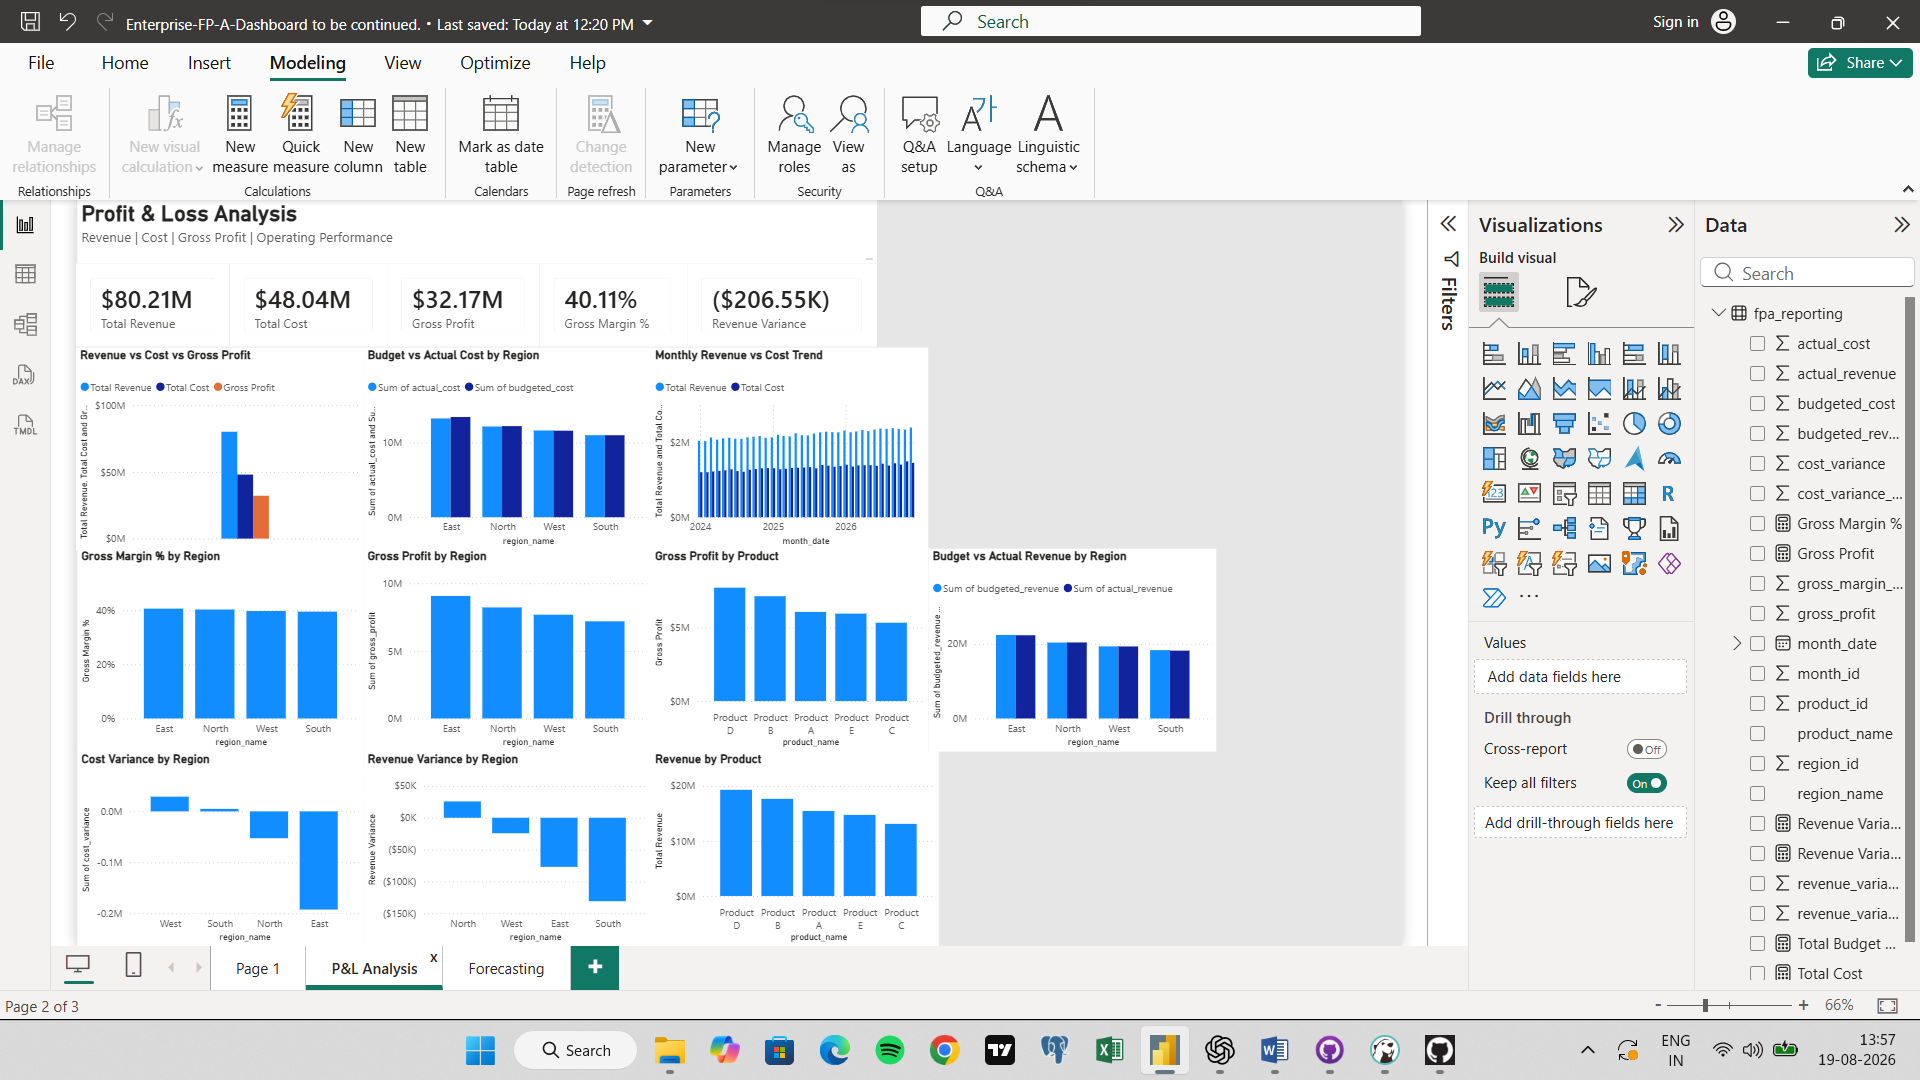

What the dashboard file says about the page in this screenshot:
{"tool":"powerbi","page":{"name":"P&L Analysis","canvas":[1600,900],"ordinal":1},"visuals":[{"type":"textbox","title":"Profit & Loss Analysis","box":[1.5,0,965.2,76.9],"z":0},{"type":"cardVisual","fields":{"Data":["fpa_reporting.Total Revenue"]},"box":[0,76.4,184.6,100.3],"z":1000},{"type":"cardVisual","fields":{"Data":["fpa_reporting.Total Cost"]},"box":[184.8,76.4,190.8,100.3],"z":2000},{"type":"cardVisual","fields":{"Data":["fpa_reporting.Gross Profit"]},"box":[375.7,76.4,183.4,100.3],"z":3000},{"type":"cardVisual","fields":{"Data":["fpa_reporting.Gross Margin %"]},"box":[559.3,76.4,177.3,100.3],"z":4000},{"type":"cardVisual","fields":{"Data":["fpa_reporting.Revenue Variance"]},"box":[736.8,76.4,228.7,100.3],"z":5000},{"type":"clusteredColumnChart","title":"Revenue vs Cost vs Gross Profit","fields":{"Y":["fpa_reporting.Total Revenue","fpa_reporting.Total Cost","fpa_reporting.Gross Profit"]},"box":[0,177.3,347,244.6],"z":6000},{"type":"clusteredColumnChart","title":"Monthly Revenue vs Cost Trend","fields":{"Y":["fpa_reporting.Total Revenue","fpa_reporting.Total Cost"],"Category":["fpa_reporting.month_date"]},"box":[694,177.3,334.8,244.6],"z":7000},{"type":"clusteredColumnChart","title":"Gross Profit by Region","fields":{"Category":["fpa_reporting.region_name"],"Y":["Sum(fpa_reporting.gross_profit)"]},"box":[347,420.3,347,244.6],"z":8000},{"type":"clusteredColumnChart","title":"Gross Margin % by Region","fields":{"Category":["fpa_reporting.region_name"],"Y":["fpa_reporting.Gross Margin %"]},"box":[1.5,420.3,345.5,244.6],"z":9000},{"type":"clusteredColumnChart","title":"Revenue Variance by Region","fields":{"Category":["fpa_reporting.region_name"],"Y":["fpa_reporting.Revenue Variance"]},"box":[347,664.6,347,235.4],"z":10000},{"type":"clusteredColumnChart","title":"Revenue by Product","fields":{"Category":["fpa_reporting.product_name"],"Y":["fpa_reporting.Total Revenue"]},"box":[694,664.6,347,235.4],"z":11000},{"type":"clusteredColumnChart","title":"Gross Profit by Product","fields":{"Category":["fpa_reporting.product_name"],"Y":["fpa_reporting.Gross Profit"]},"box":[694,420.3,334.8,244.6],"z":12000},{"type":"clusteredColumnChart","title":"Budget vs Actual Cost by Region","fields":{"Category":["fpa_reporting.region_name"],"Y":["Sum(fpa_reporting.actual_cost)","Sum(fpa_reporting.budgeted_cost)"]},"box":[347,177.3,347,244.6],"z":13000},{"type":"clusteredColumnChart","title":"Cost Variance by Region","fields":{"Category":["fpa_reporting.region_name"],"Y":["Sum(fpa_reporting.cost_variance)"]},"box":[1.5,664.6,345.5,235.4],"z":14000},{"type":"clusteredColumnChart","title":"Budget vs Actual Revenue by Region","fields":{"Category":["fpa_reporting.region_name"],"Y":["Sum(fpa_reporting.budgeted_revenue)","Sum(fpa_reporting.actual_revenue)"]},"box":[1028.7,420.3,347,244.6],"z":15000}]}

Visuals, with their boxes on the page's 1600x900 design canvas (x1, y1, x2, y2). These are canvas units, not pixel positions in the 1920x1080 screenshot, which may show the page scaled, cropped or inside an application window:
"Profit & Loss Analysis" textbox: box=[2, 0, 967, 77]
cardVisual - fpa_reporting.Total Revenue: box=[0, 76, 185, 177]
cardVisual - fpa_reporting.Total Cost: box=[185, 76, 376, 177]
cardVisual - fpa_reporting.Gross Profit: box=[376, 76, 559, 177]
cardVisual - fpa_reporting.Gross Margin %: box=[559, 76, 737, 177]
cardVisual - fpa_reporting.Revenue Variance: box=[737, 76, 966, 177]
"Revenue vs Cost vs Gross Profit" clusteredColumnChart: box=[0, 177, 347, 422]
"Monthly Revenue vs Cost Trend" clusteredColumnChart: box=[694, 177, 1029, 422]
"Gross Profit by Region" clusteredColumnChart: box=[347, 420, 694, 665]
"Gross Margin % by Region" clusteredColumnChart: box=[2, 420, 347, 665]
"Revenue Variance by Region" clusteredColumnChart: box=[347, 665, 694, 900]
"Revenue by Product" clusteredColumnChart: box=[694, 665, 1041, 900]
"Gross Profit by Product" clusteredColumnChart: box=[694, 420, 1029, 665]
"Budget vs Actual Cost by Region" clusteredColumnChart: box=[347, 177, 694, 422]
"Cost Variance by Region" clusteredColumnChart: box=[2, 665, 347, 900]
"Budget vs Actual Revenue by Region" clusteredColumnChart: box=[1029, 420, 1376, 665]
